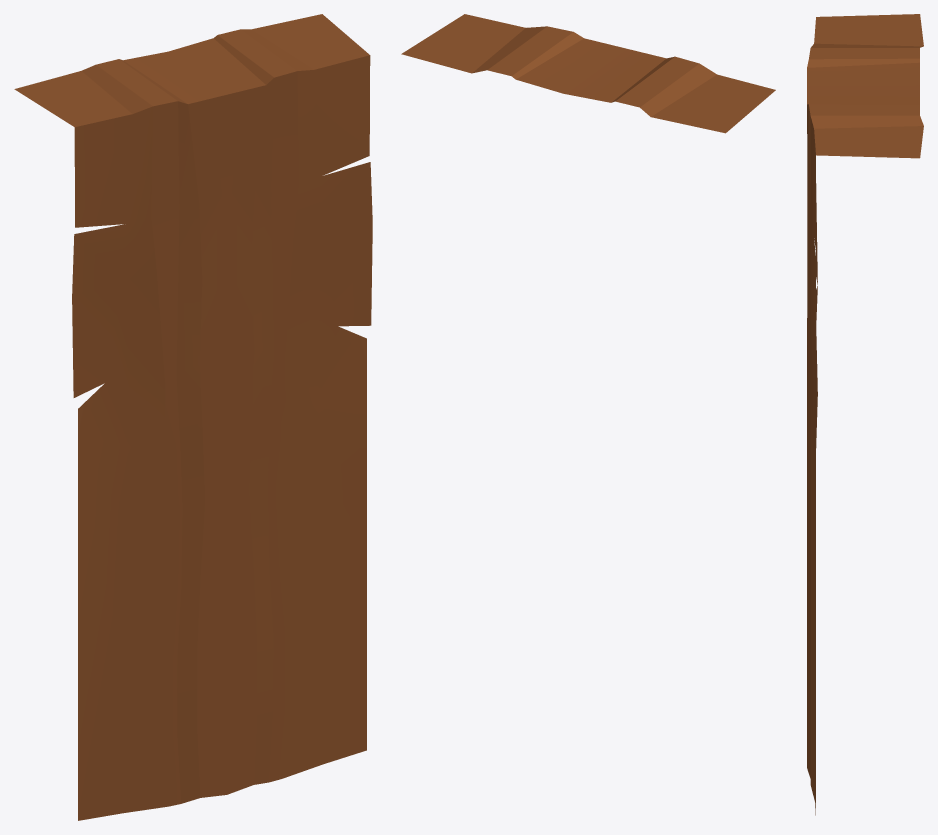
The model's file is quaternius-ultimate-modular-ruins-flag-wall.glb.
3 views of the same model, side by side, from view 1: azimuth 30°, elevation 25°; view 2: azimuth 150°, elevation 25°; view 3: azimuth 270°, elevation 25° (orthographic). The views are drawn at different scales.
Visible parts, largest first — view 1: Flag_Wall; view 2: Flag_Wall; view 3: Flag_Wall.
Part boxes in pixels (x1,y1,x2,y2): Flag_Wall: [14, 14, 372, 820]; Flag_Wall: [401, 14, 775, 133]; Flag_Wall: [807, 14, 923, 815].
Bounding box in the file's own units: 0.9233 × 2.02 × 0.316.
